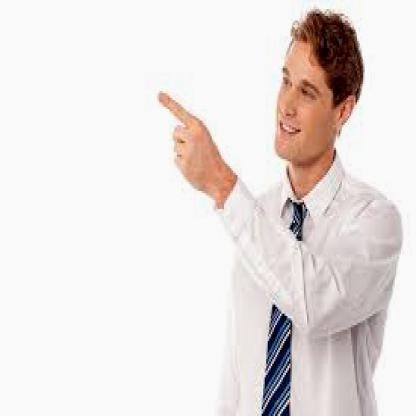Right: (148, 72, 229, 213)
